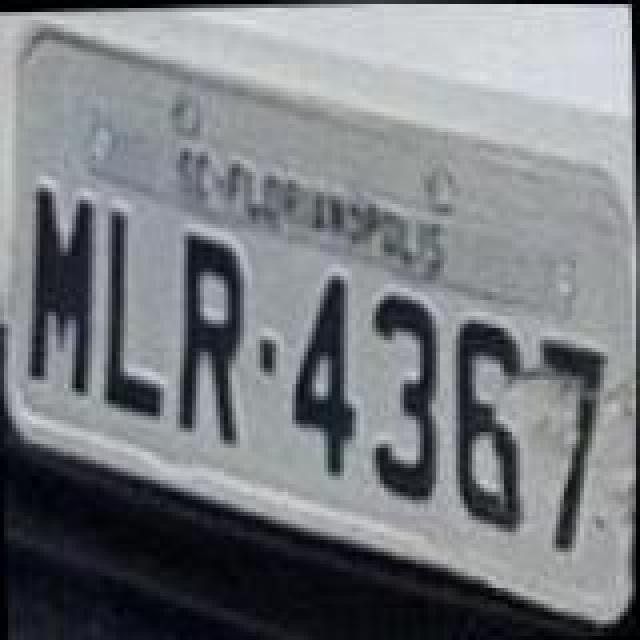3: (366, 284, 450, 504)
4: (278, 270, 362, 486)
6: (448, 306, 532, 534)
7: (534, 330, 614, 558)
L: (96, 198, 172, 422)
M: (18, 176, 102, 400)
R: (172, 224, 256, 452)
